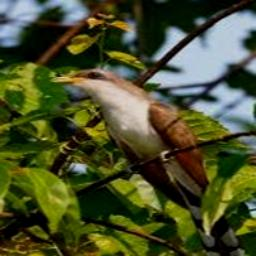Cuckoo: (51, 68, 245, 256)
